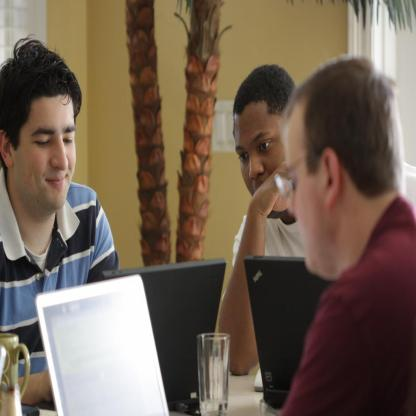board: (100, 256, 227, 410), (34, 272, 170, 415), (236, 242, 321, 415)
